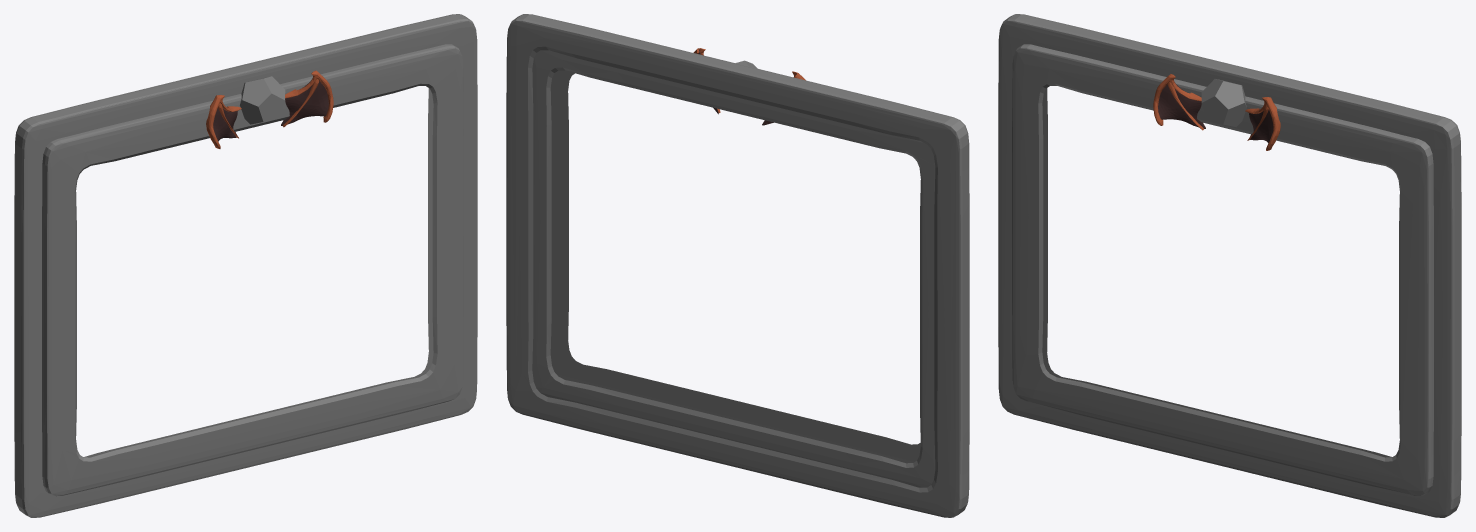
The model's file is thumb-beast.fbx.
The picture shows the model from 3 angles, left to right: view 1: azimuth 30°, elevation 25°; view 2: azimuth 150°, elevation 25°; view 3: azimuth 330°, elevation 25°; orthographic projection.
Parts seen in each view (by area): view 1: card-frame-base12, book_table, beast-wings, managem1; view 2: book_table, card-frame-base12; view 3: card-frame-base12, book_table, beast-wings, managem1.
Part boxes in pixels (x1=…): card-frame-base12: x1=42, y1=44, x2=463, y2=496; book_table: x1=14, y1=14, x2=477, y2=517; beast-wings: x1=206, y1=70, x2=333, y2=148; managem1: x1=240, y1=76, x2=285, y2=124; book_table: x1=506, y1=14, x2=969, y2=517; card-frame-base12: x1=532, y1=50, x2=935, y2=487; card-frame-base12: x1=1012, y1=44, x2=1433, y2=495; book_table: x1=998, y1=14, x2=1461, y2=517; beast-wings: x1=1153, y1=74, x2=1280, y2=150; managem1: x1=1201, y1=79, x2=1246, y2=127.
Size of the model in its own units: 1.64 by 1.36 by 0.1743.
